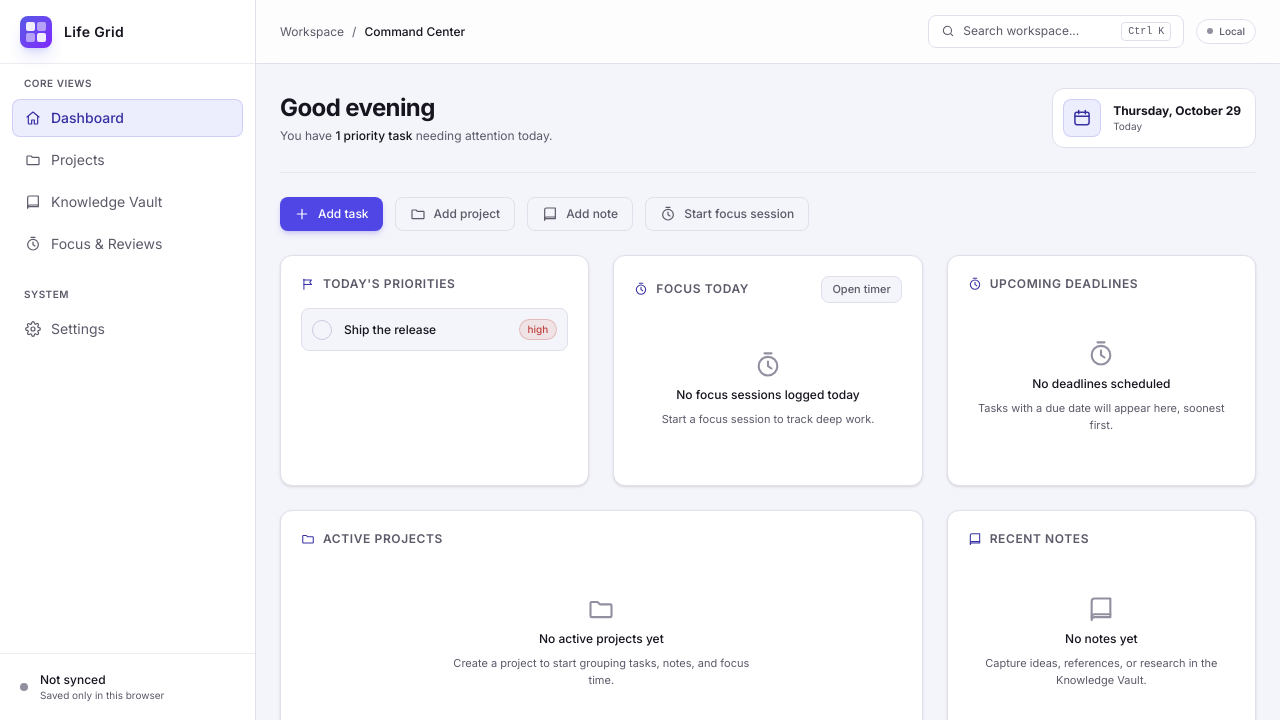
Test: DashboardPage — today's priority completion › persists completion to the task and keeps it in the daily plan, not just in the UI
This screenshot has width=1280, height=720.
Click the button named "mark \"ship the release\" as done" at (322, 330), box top-left (312, 320), bottom-right (332, 340)
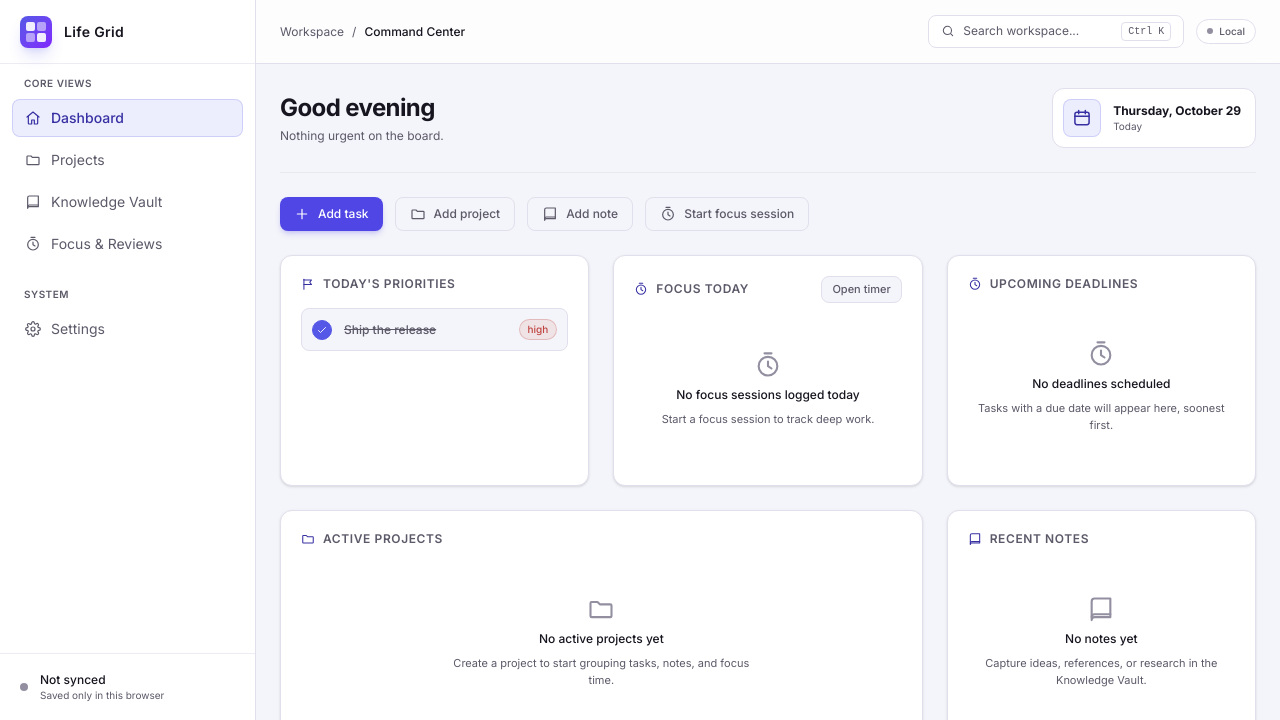
Check: the button named "mark \"ship the release\" as not done" is shown, box top-left (312, 320), bottom-right (332, 340)
